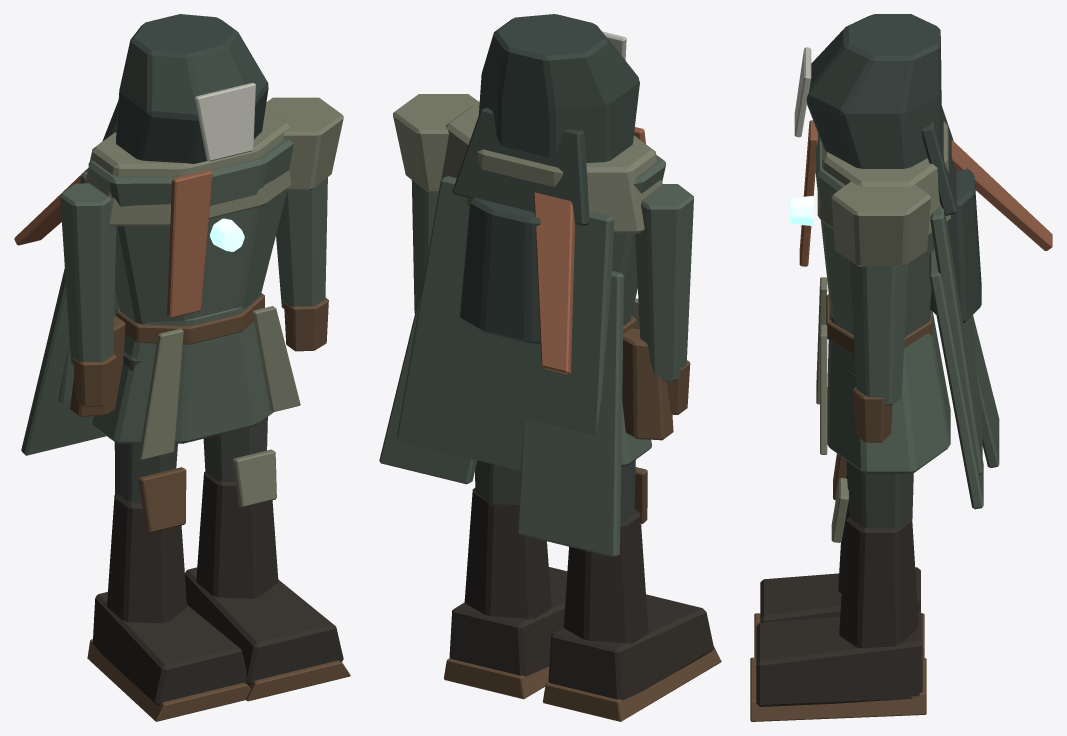
File: dream_runner_character_03.glb
3 renders of one model, left to right at view 1: azimuth 30°, elevation 25°; view 2: azimuth 150°, elevation 25°; view 3: azimuth 270°, elevation 25°, orthographic. The views are drawn at different scales.
Parts seen in each view (by area): view 1: DR_Torso_Coat, DR_Hood_Head, DR_Coat_Lower_Skirt, DR_Left_Foot, DR_Right_Foot, DR_Left_Arm, DR_Right_Boot, DR_Left_Boot, DR_Shoulder_Mantle, DR_Right_Arm, DR_Cloak_Left_Tail, DR_Hanging_Scarf (+17 smaller); view 2: DR_Coat_Back_Panel, DR_Hood_Head, DR_Cloak_Left_Tail, DR_Left_Foot, DR_Back_Pack_Shadow, DR_Left_Arm, DR_Right_Boot, DR_Left_Boot, DR_Shoulder_Mantle, DR_Hood_Cowl_Back, DR_Right_Foot, DR_Scarf_Tail (+12 smaller); view 3: DR_Hood_Head, DR_Right_Foot, DR_Coat_Lower_Skirt, DR_Right_Boot, DR_Right_Shoulder_Guard, DR_Right_Arm, DR_Torso_Coat, DR_Coat_Back_Panel, DR_Left_Foot, DR_Back_Pack_Shadow, DR_Right_Leg, DR_Boot_Sole_Right (+13 smaller).
Part boxes in pixels (bbox=[...]): DR_Torso_Coat: bbox=[88, 139, 293, 324]; DR_Hood_Head: bbox=[115, 14, 268, 163]; DR_Coat_Lower_Skirt: bbox=[92, 306, 273, 443]; DR_Left_Foot: bbox=[92, 592, 246, 705]; DR_Right_Foot: bbox=[185, 567, 343, 684]; DR_Left_Arm: bbox=[60, 183, 116, 364]; DR_Right_Boot: bbox=[196, 471, 278, 598]; DR_Left_Boot: bbox=[107, 493, 186, 623]; DR_Shoulder_Mantle: bbox=[85, 107, 291, 226]; DR_Right_Arm: bbox=[276, 177, 327, 308]; DR_Cloak_Left_Tail: bbox=[21, 268, 119, 455]; DR_Hanging_Scarf: bbox=[167, 170, 212, 317]; DR_Coat_Back_Panel: bbox=[396, 176, 614, 470]; DR_Hood_Head: bbox=[479, 14, 639, 162]; DR_Cloak_Left_Tail: bbox=[518, 271, 623, 557]; DR_Left_Foot: bbox=[548, 594, 713, 700]; DR_Back_Pack_Shadow: bbox=[460, 197, 540, 343]; DR_Left_Arm: bbox=[635, 184, 693, 381]; DR_Right_Boot: bbox=[464, 488, 551, 619]; DR_Left_Boot: bbox=[563, 509, 648, 643]; DR_Shoulder_Mantle: bbox=[441, 105, 662, 233]; DR_Hood_Cowl_Back: bbox=[452, 107, 589, 225]; DR_Right_Foot: bbox=[449, 567, 567, 676]; DR_Scarf_Tail: bbox=[534, 192, 574, 374]; DR_Hood_Head: bbox=[806, 14, 941, 168]; DR_Right_Foot: bbox=[756, 611, 922, 706]; DR_Coat_Lower_Skirt: bbox=[827, 303, 950, 473]; DR_Right_Boot: bbox=[839, 516, 918, 648]; DR_Right_Shoulder_Guard: bbox=[831, 181, 930, 266]; DR_Right_Arm: bbox=[850, 261, 908, 405]; DR_Torso_Coat: bbox=[815, 133, 934, 337]; DR_Coat_Back_Panel: bbox=[930, 205, 982, 474]; DR_Left_Foot: bbox=[760, 567, 920, 622]; DR_Back_Pack_Shadow: bbox=[930, 168, 981, 323]; DR_Right_Leg: bbox=[845, 370, 913, 529]; DR_Boot_Sole_Right: bbox=[750, 657, 926, 721].
Size of the model in its own units: 0.8031 by 1.77 by 0.7624.
